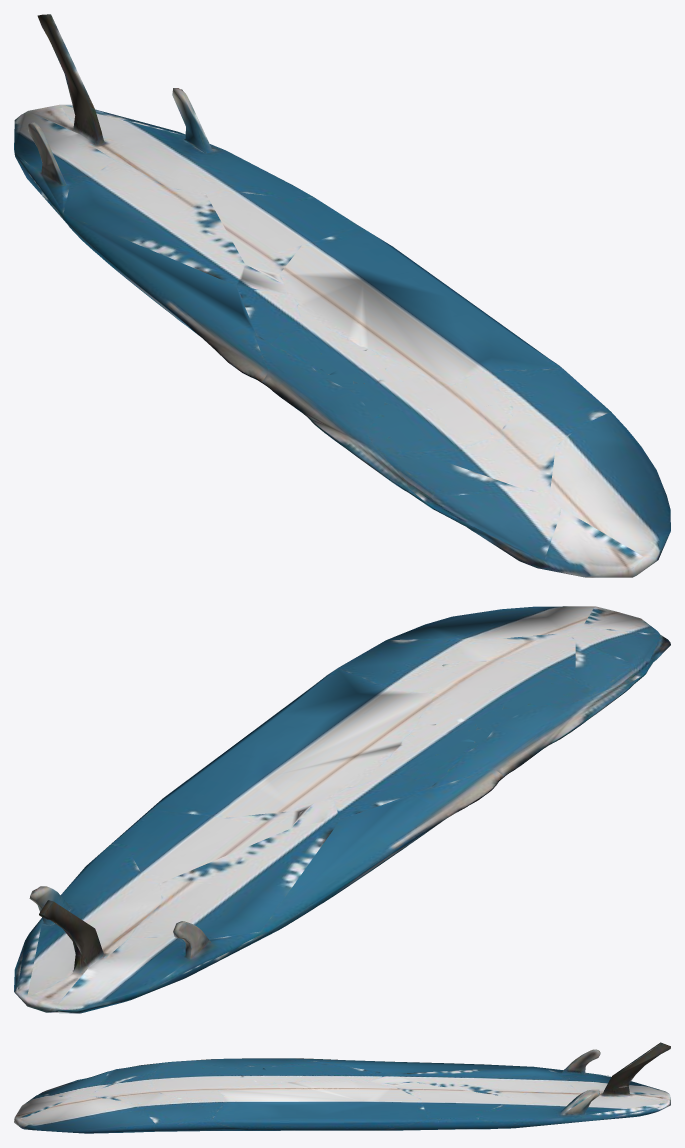
File: board.glb
3 views of the same model, one above another, from view 1: azimuth 30°, elevation 25°; view 2: azimuth 150°, elevation 25°; view 3: azimuth 270°, elevation 25° (orthographic). The views are drawn at different scales.
Visible parts, largest first — view 1: node_0; view 2: node_0; view 3: node_0.
Boxes of the visible parts, left/top/right/bottom form: node_0: left=14, top=14, right=670, bottom=577; node_0: left=14, top=606, right=670, bottom=1013; node_0: left=14, top=1042, right=670, bottom=1133.
Size of the model in its own units: 0.2853 by 0.1554 by 1.19.
1 material, 1 textured.
